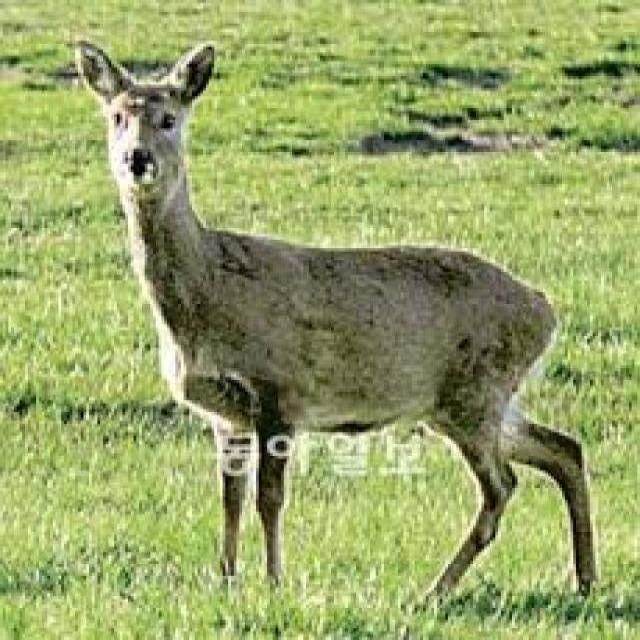deer: (62, 29, 610, 620)
